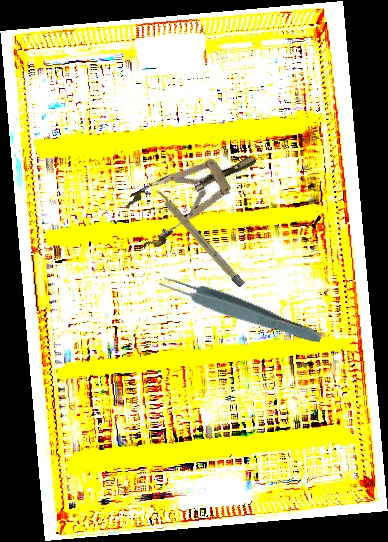Scalpel Handle: (154, 188, 245, 288)
Speculum: (118, 133, 270, 254)
Tissue Forceps: (156, 269, 325, 349)
